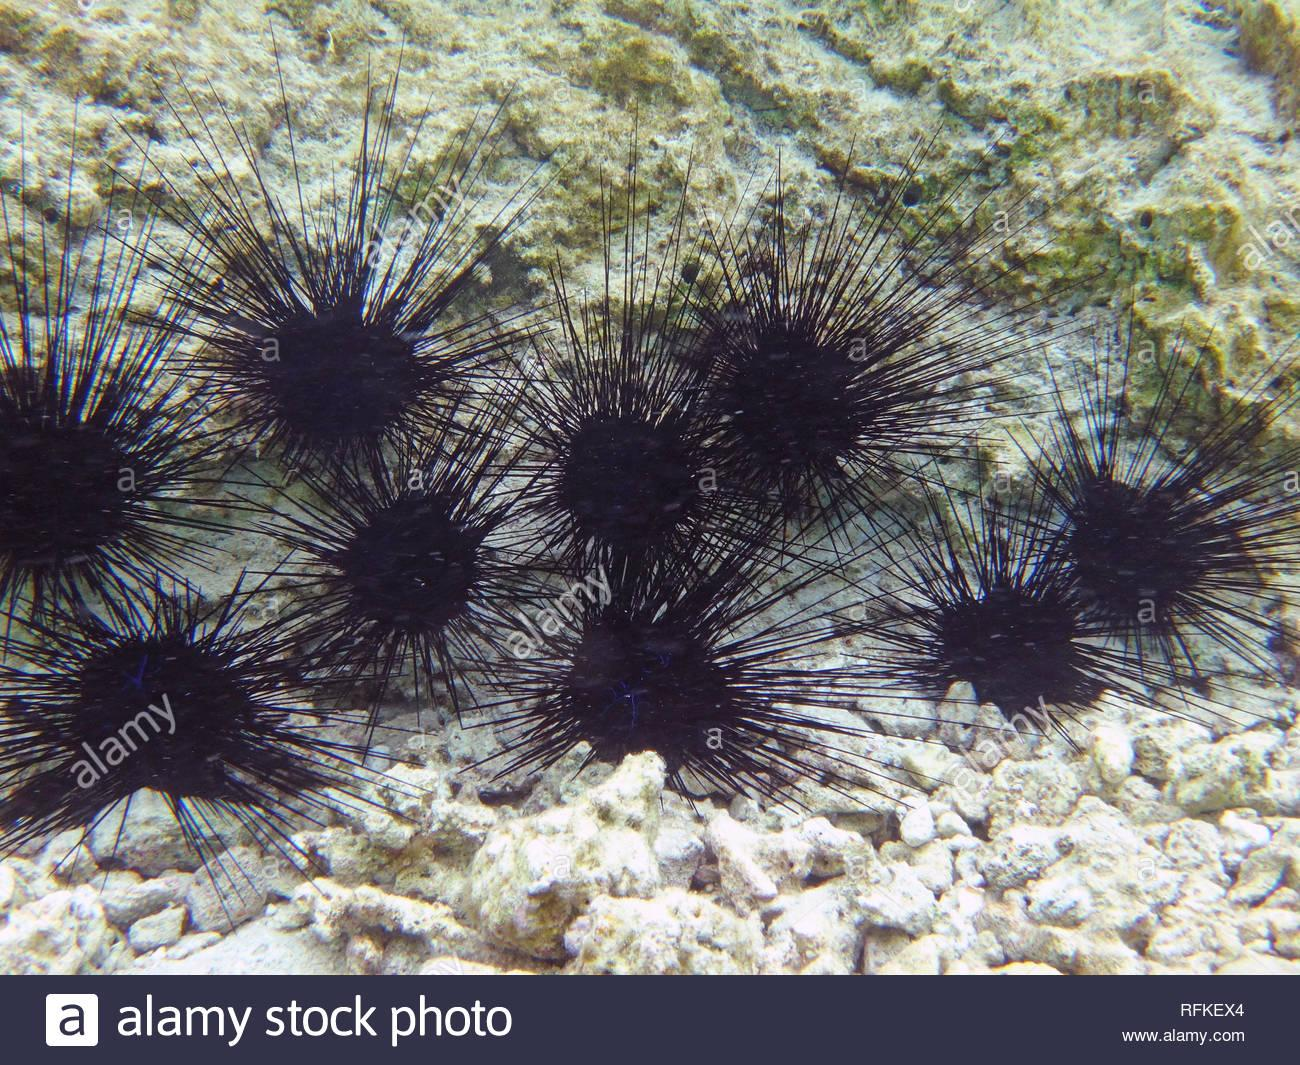urchin: (90, 19, 620, 532), (204, 202, 672, 779), (0, 75, 432, 662), (412, 204, 952, 620), (601, 133, 1102, 578), (450, 477, 1073, 832), (3, 540, 432, 934), (810, 429, 1297, 764), (985, 295, 1300, 718)
